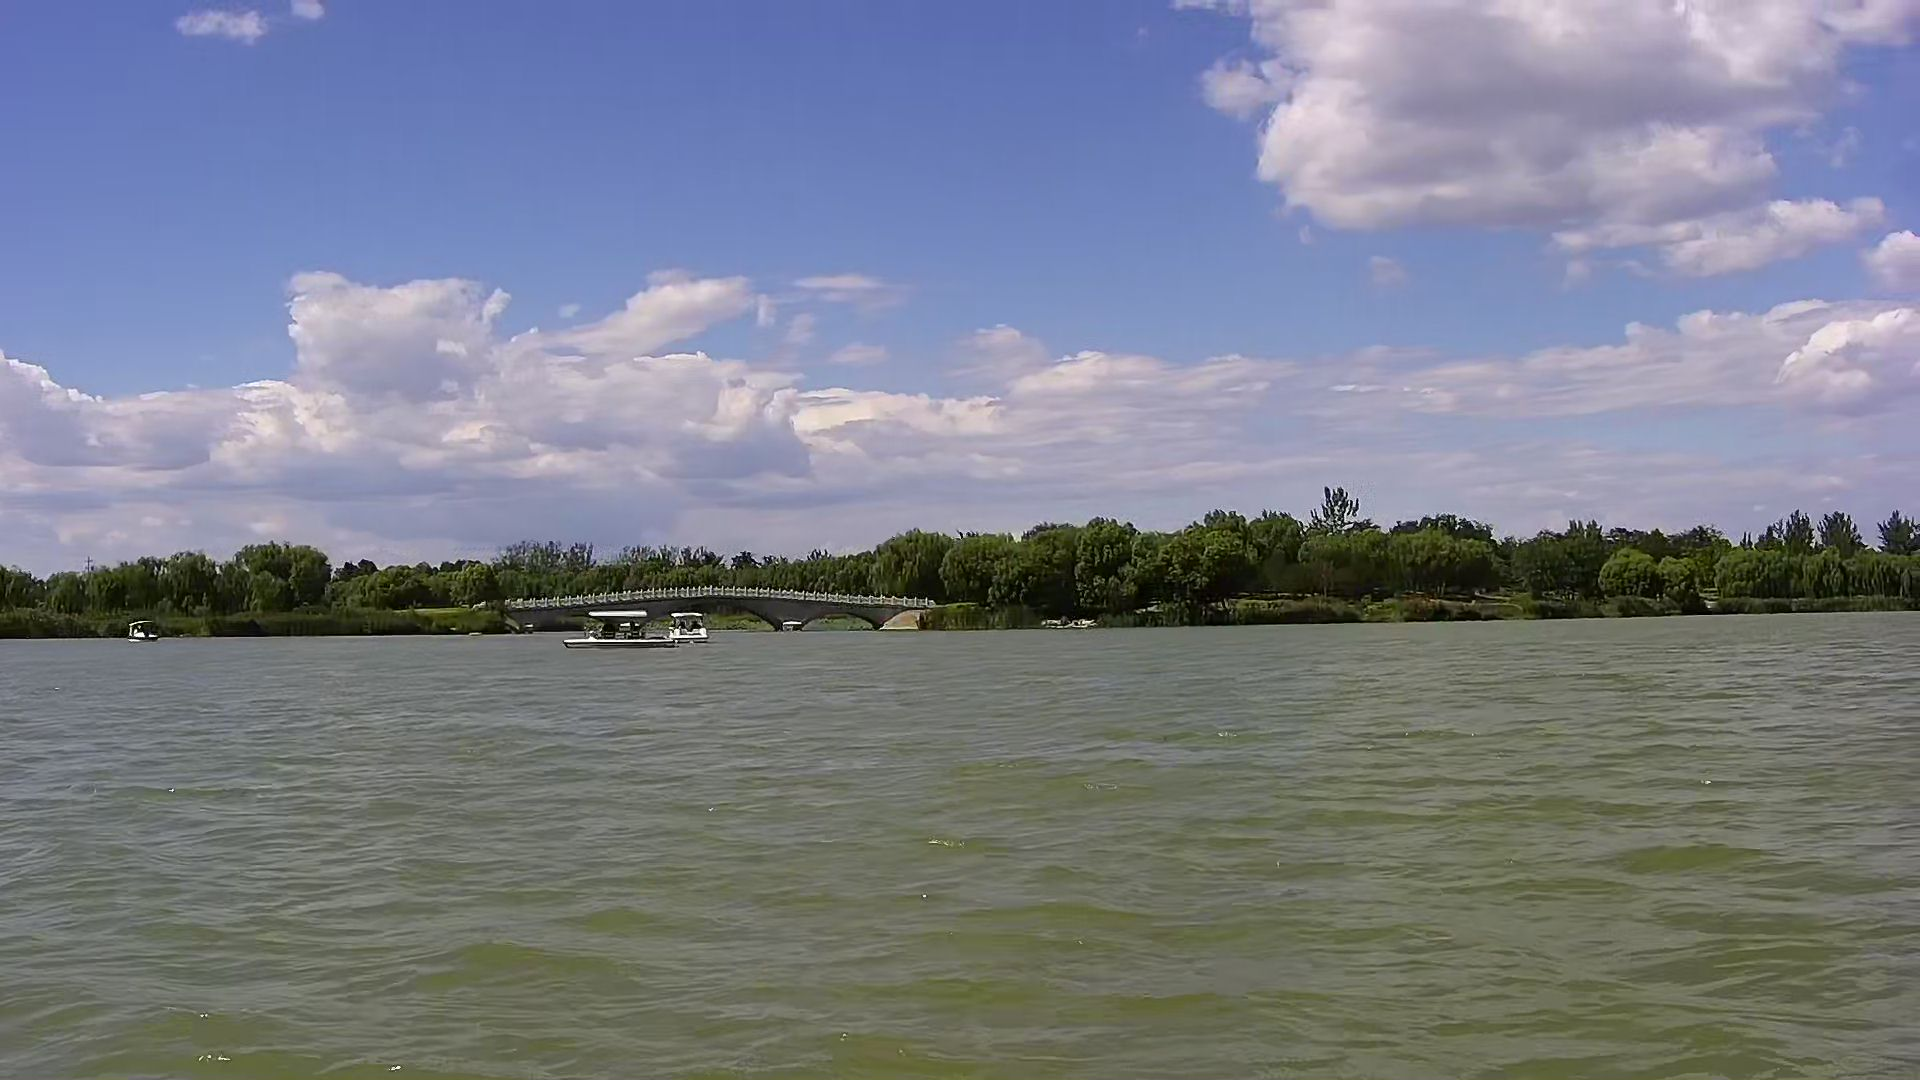boat: (564, 611, 673, 658), (667, 611, 721, 650), (119, 616, 167, 650)
bridge: (506, 576, 949, 638)
